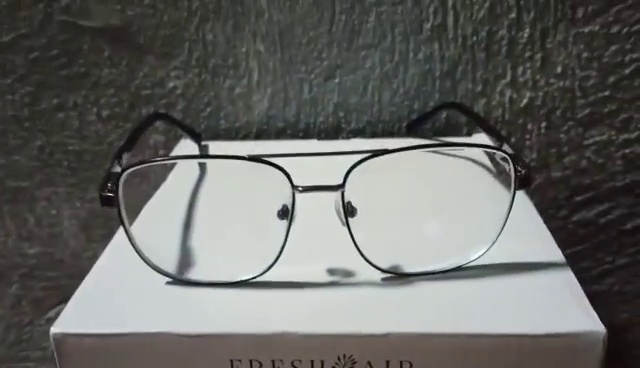glasses: (96, 101, 526, 290)
